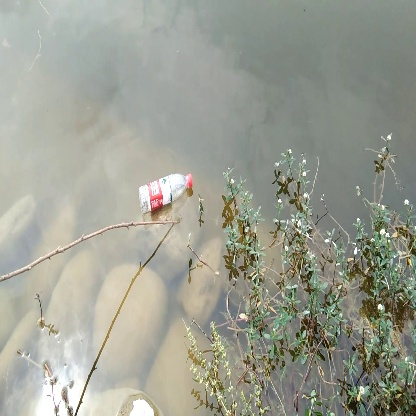bottle: (139, 170, 198, 216)
